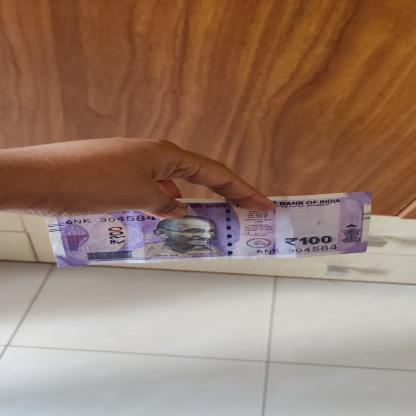New100Front: (41, 189, 379, 269)
